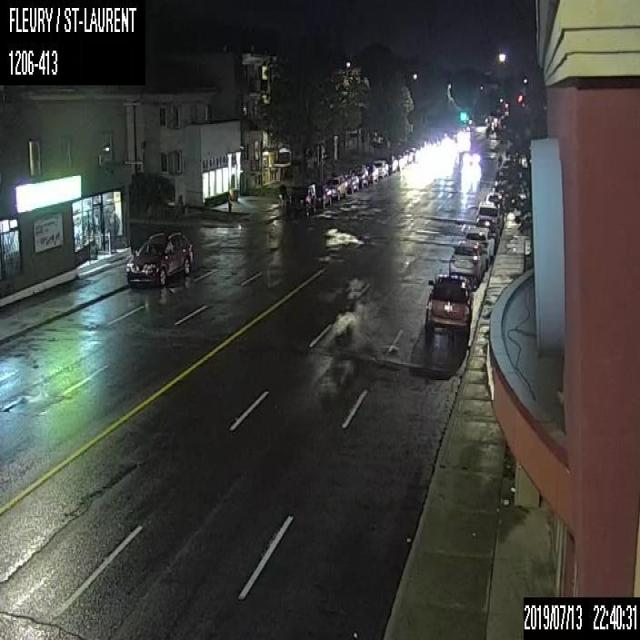vehicle: (125, 230, 193, 286), (425, 273, 471, 332), (448, 239, 484, 282), (285, 182, 315, 217), (464, 227, 493, 263), (475, 200, 503, 230), (326, 174, 345, 199), (315, 182, 331, 207), (351, 164, 368, 187), (342, 170, 358, 192), (462, 146, 482, 162), (372, 159, 388, 177)
